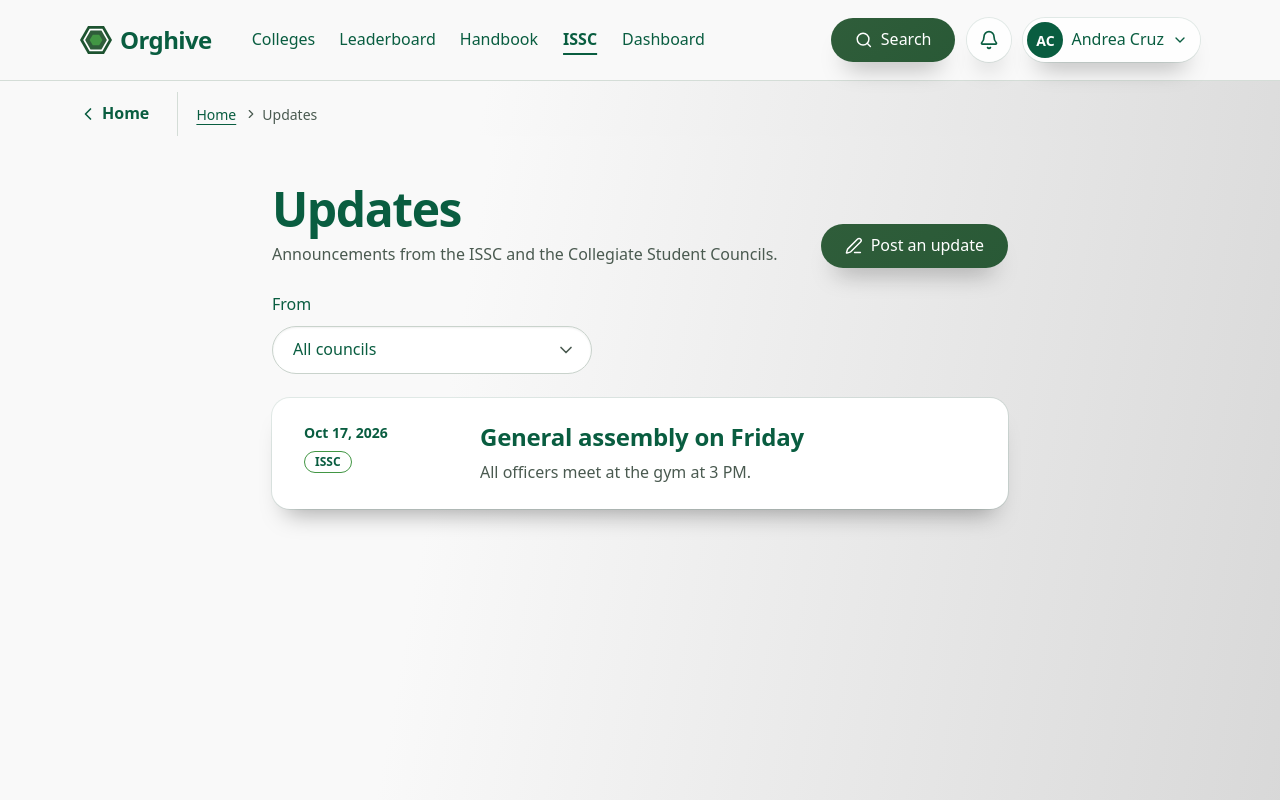
Scenario: /updates › lets a council officer publish an update
Click the button "Post an update" at (915, 246), box [821,224,1008,268]
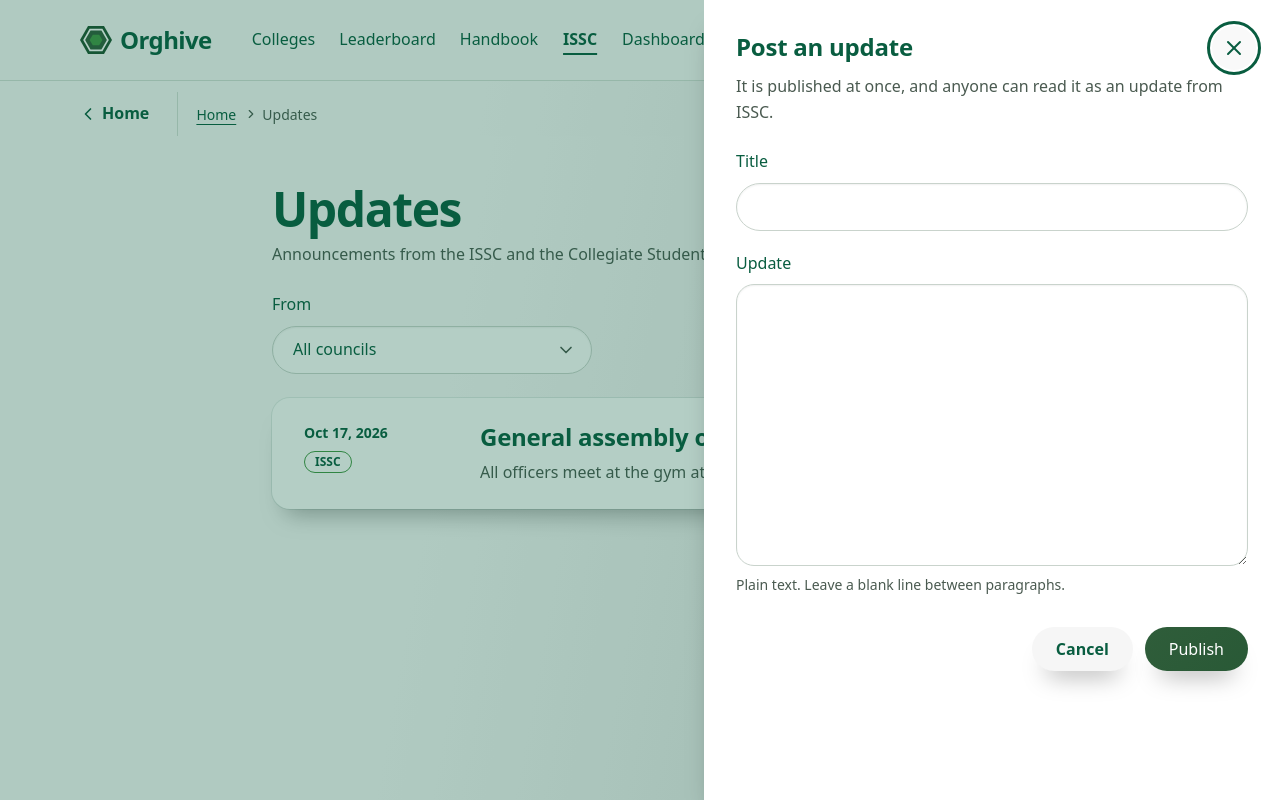
Type "Intramurals schedule" into the field labelled "Title" at (992, 207), box [736,183,1248,231]
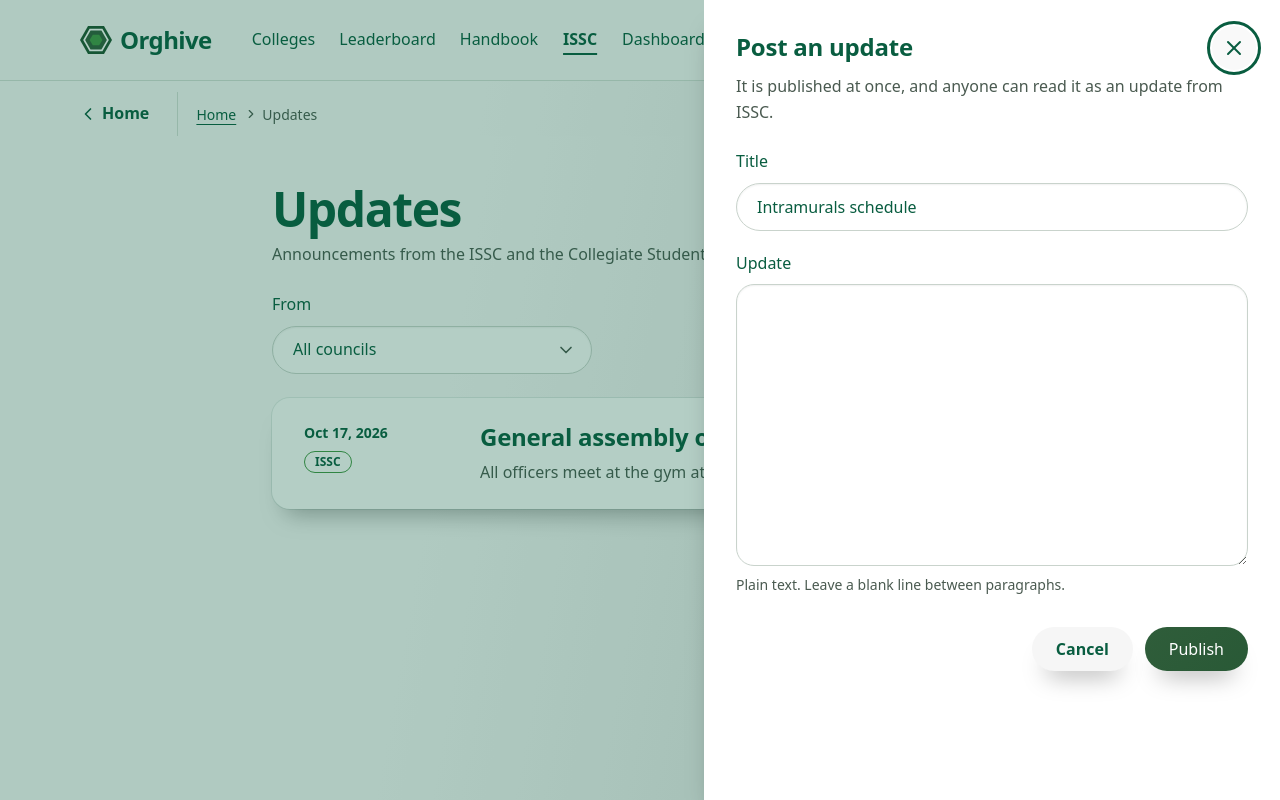
Type "Games start Monday." into the text box labelled "Update" at (992, 425), box [736,284,1248,566]
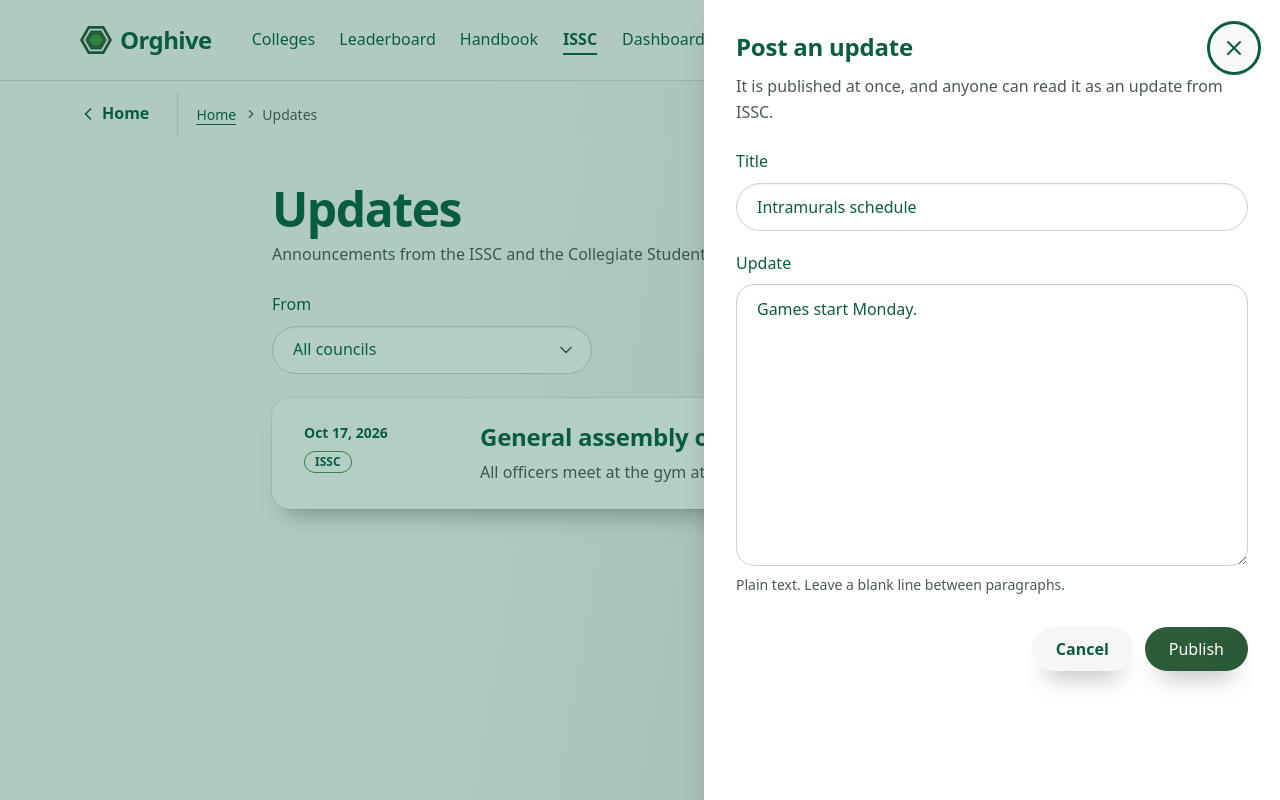
Click the button "Publish" at (1196, 649), box [1145,627,1248,671]
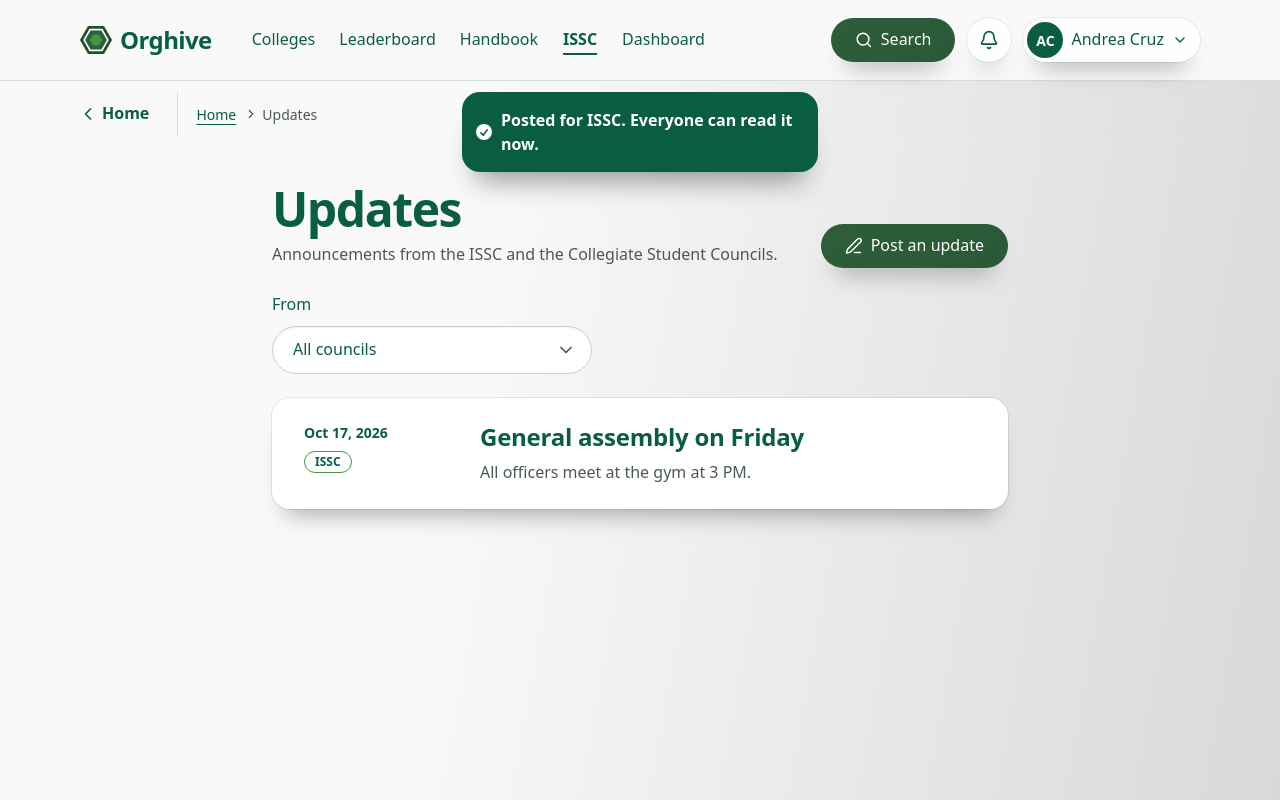
Now the dialog is gone
